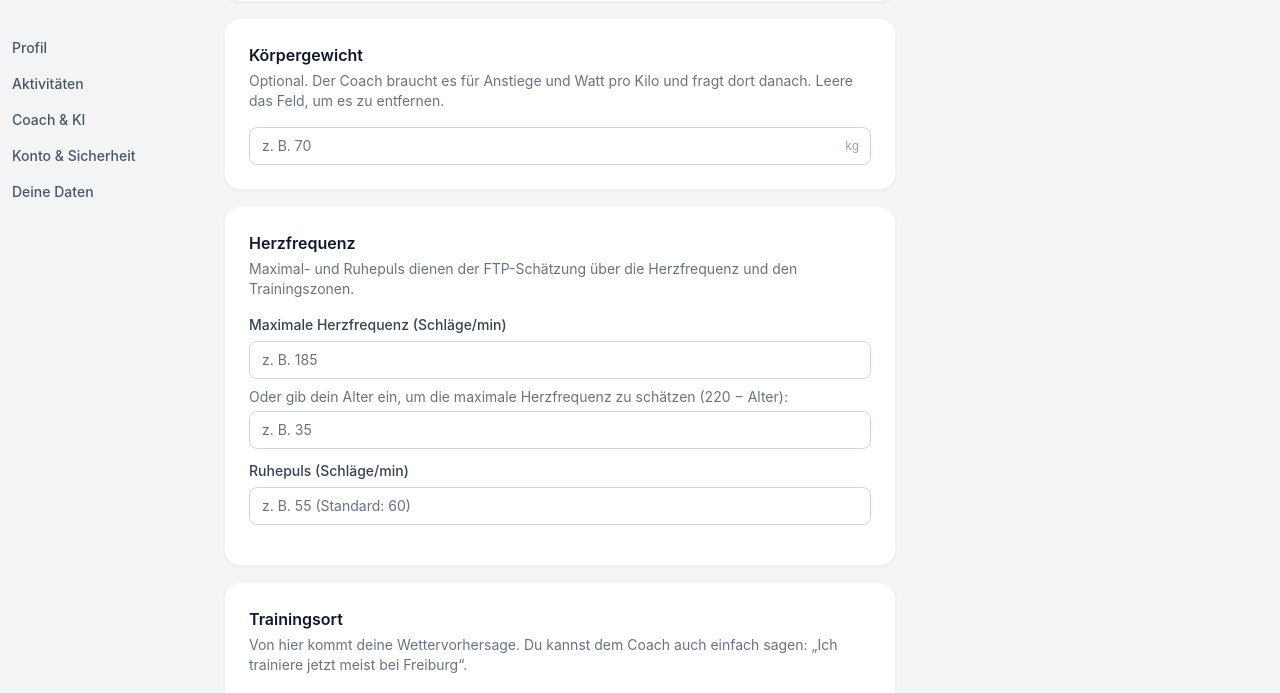
SettingsPage › reads German inside the sections too, a failed check included (ai-trainer-ops#104)
(page scrolled)
expect the heading "Herzfrequenz" is shown: met, box [249,233,356,253]
// The check fails in English inside the page and is translated where it shows.
Step 1. Type "0" into the number field labelled "Maximale Herzfrequenz (Schläge/min)" → (560, 360), box [249,341,871,379]
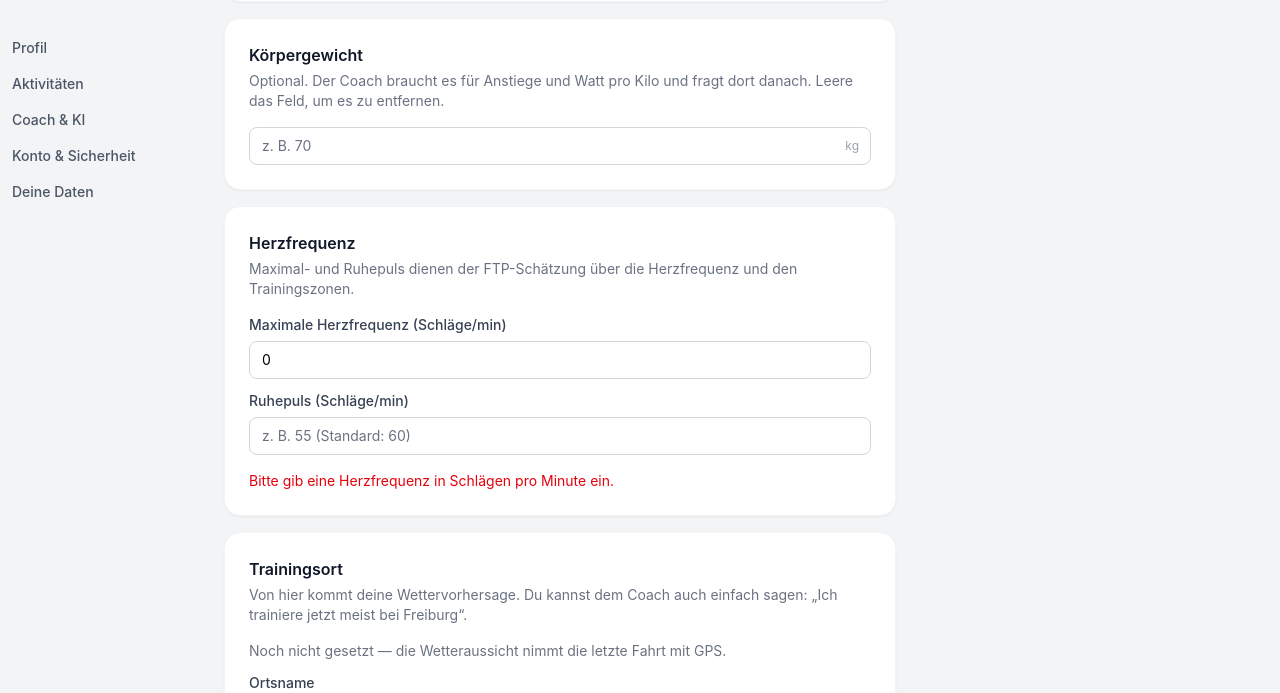
expect the text "Bitte gib eine Herzfrequenz in Schlägen pro Minute ein." is shown: met, box [249,472,614,489]
